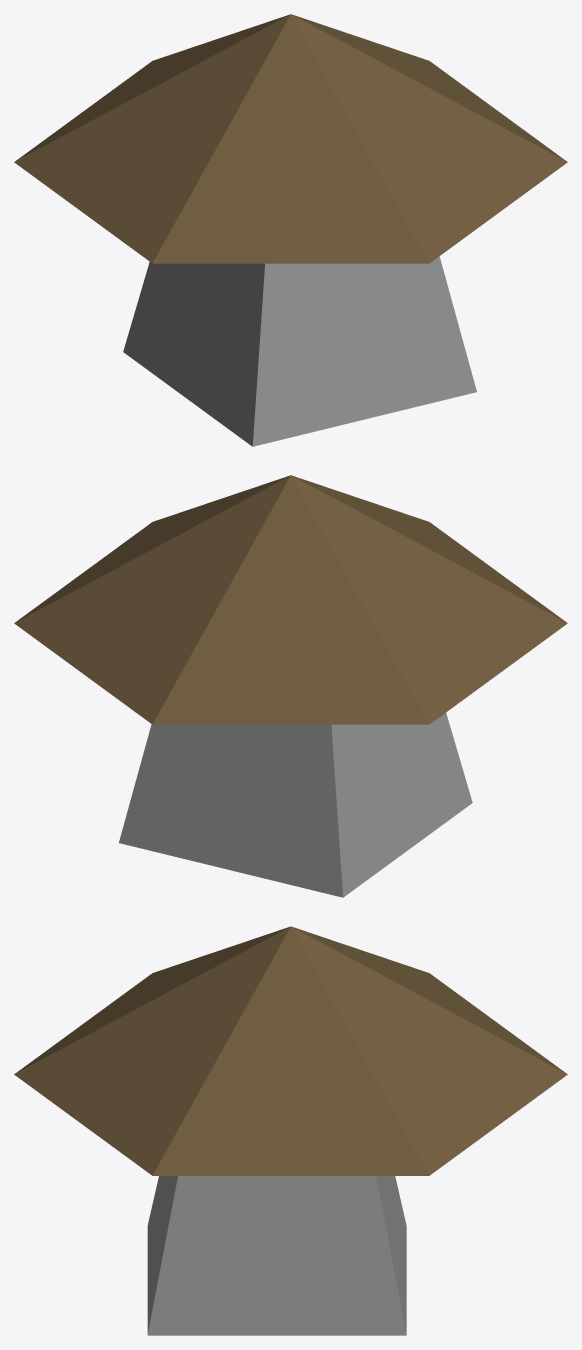
Rendered from Mushroom_Brown_01.obj.
3 renders of one model, top to bottom at view 1: azimuth 30°, elevation 25°; view 2: azimuth 150°, elevation 25°; view 3: azimuth 270°, elevation 25°, orthographic.
Visible parts, largest first — view 1: Mesh1_Mushroom_Brown_Model; view 2: Mesh1_Mushroom_Brown_Model; view 3: Mesh1_Mushroom_Brown_Model.
Part boxes in pixels (left/top/right/bottom): Mesh1_Mushroom_Brown_Model: left=14, top=14, right=567, bottom=446; Mesh1_Mushroom_Brown_Model: left=14, top=475, right=567, bottom=897; Mesh1_Mushroom_Brown_Model: left=14, top=926, right=567, bottom=1335.
Bounding box in the file's own units: 0.4349 × 0.3535 × 0.5022.
